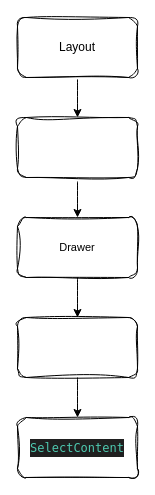
The diagram is 155 pixels wide and 495 high, and some of its shapes have lost their labels. Each missing label, with the box of its shape:
Box: (16, 316, 138, 378)
SideMenu: (16, 116, 138, 178)
